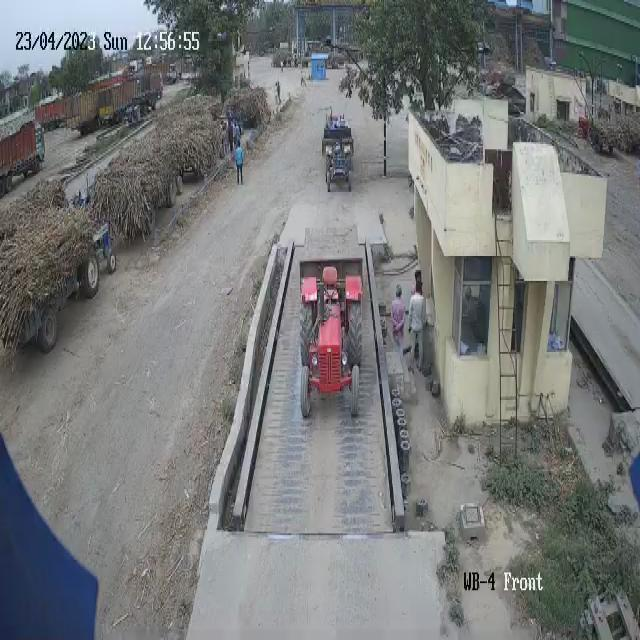Tratores - v5 YOLO V8L 2024-11-13: (297, 273, 364, 427), (78, 194, 123, 314), (318, 130, 358, 200)
